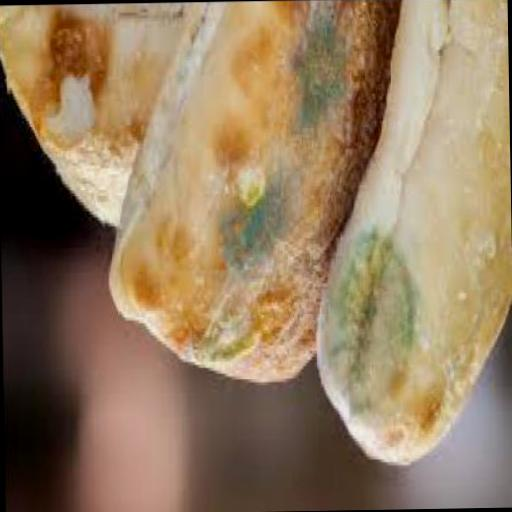biodegradable: (102, 0, 408, 390), (311, 0, 512, 459), (0, 2, 213, 231)
